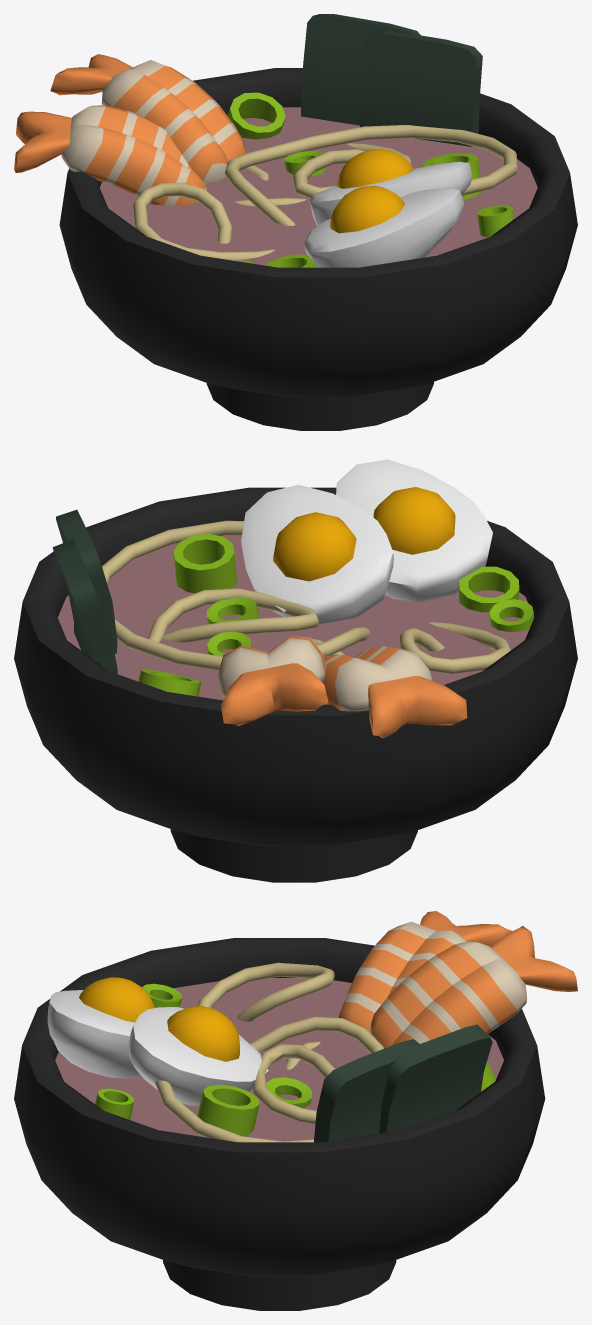
Rendered from ramen.glb.
3 views of the same model, one above another, from view 1: azimuth 30°, elevation 25°; view 2: azimuth 150°, elevation 25°; view 3: azimuth 270°, elevation 25° (orthographic). The views are drawn at different scales.
Parts seen in each view (by area): view 1: Food_Ramen; view 2: Food_Ramen; view 3: Food_Ramen.
Boxes of the visible parts, x1,y1,x2,y2 form: Food_Ramen: (14,14,577,430); Food_Ramen: (14,459,577,882); Food_Ramen: (14,911,577,1310).
Bounding box in the file's own units: 0.9933 × 0.5834 × 1.05.
Materials: 1 (1 with a texture image).
